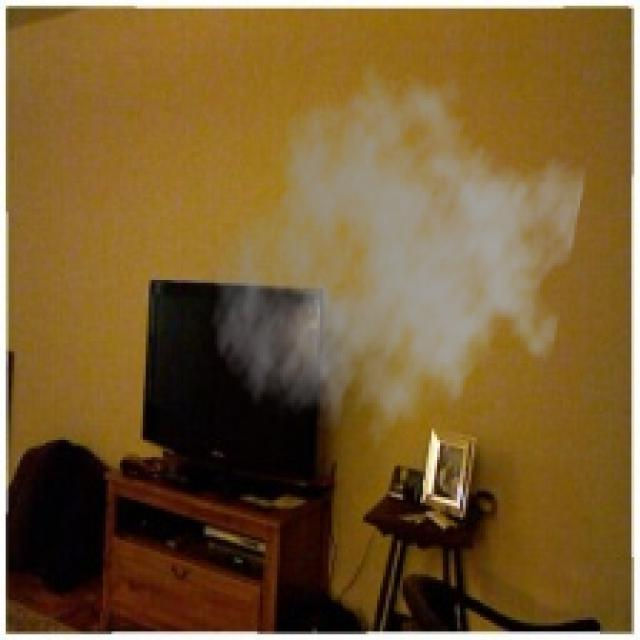smoke: (208, 57, 588, 469)
